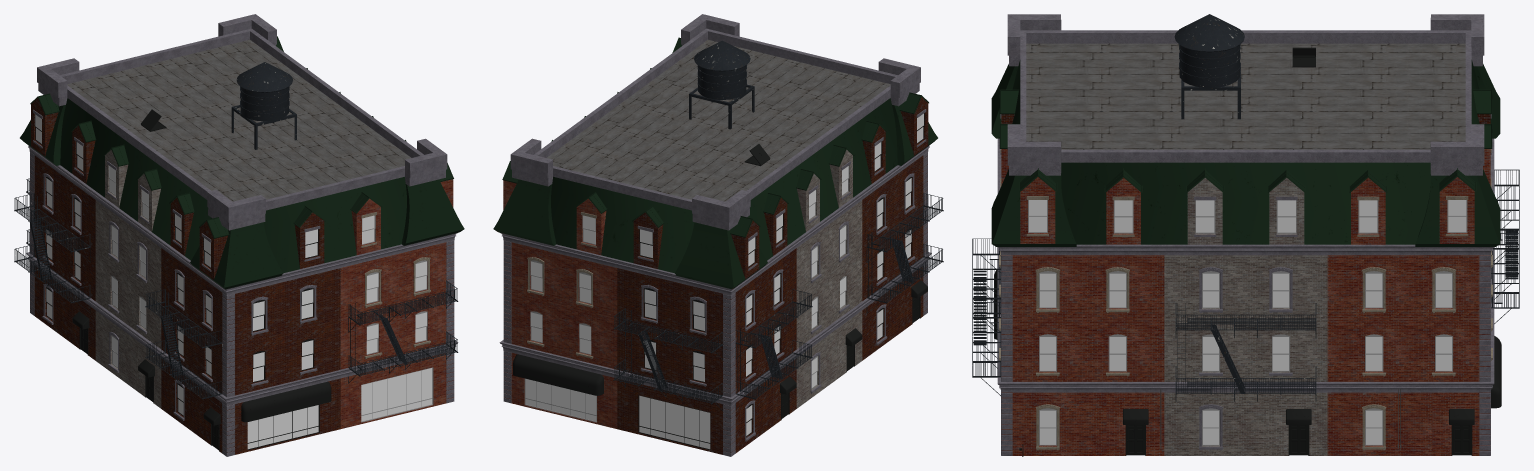
Rendered from Building_12.fbx.
The picture shows the model from 3 angles, left to right: view 1: azimuth 30°, elevation 25°; view 2: azimuth 150°, elevation 25°; view 3: azimuth 270°, elevation 25°; orthographic projection. The views are drawn at different scales.
Visible parts, largest first — view 1: Building_12_LOD0; view 2: Building_12_LOD0; view 3: Building_12_LOD0.
Part boxes in pixels (x1,y1,x2,y2): Building_12_LOD0: [14, 14, 464, 456]; Building_12_LOD0: [493, 14, 943, 456]; Building_12_LOD0: [972, 14, 1519, 456].
Size of what is drawn, in the model's own units: 2012 by 2184 by 2866.
